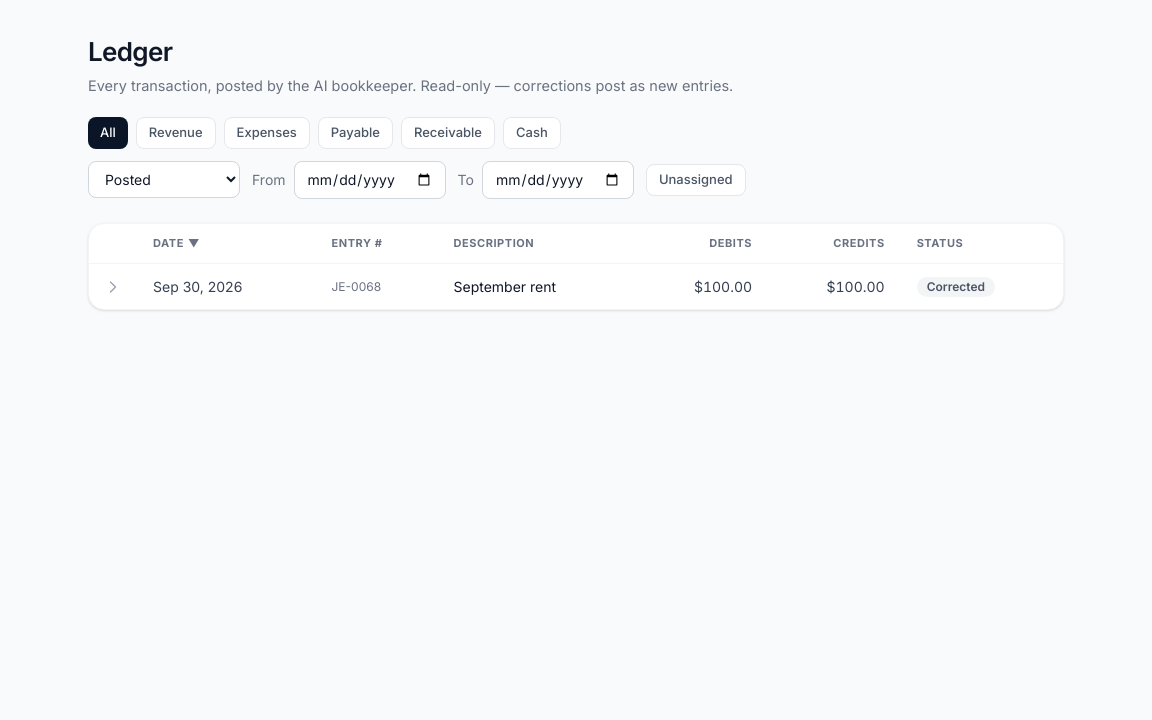
owner ledger — Assign on the live entry only (D-S85-13) › offers no Assign on an unattributed corrected entry; it shows its link and its chain
Click the text "JE-0068" at (376, 287), box [316, 264, 438, 310]
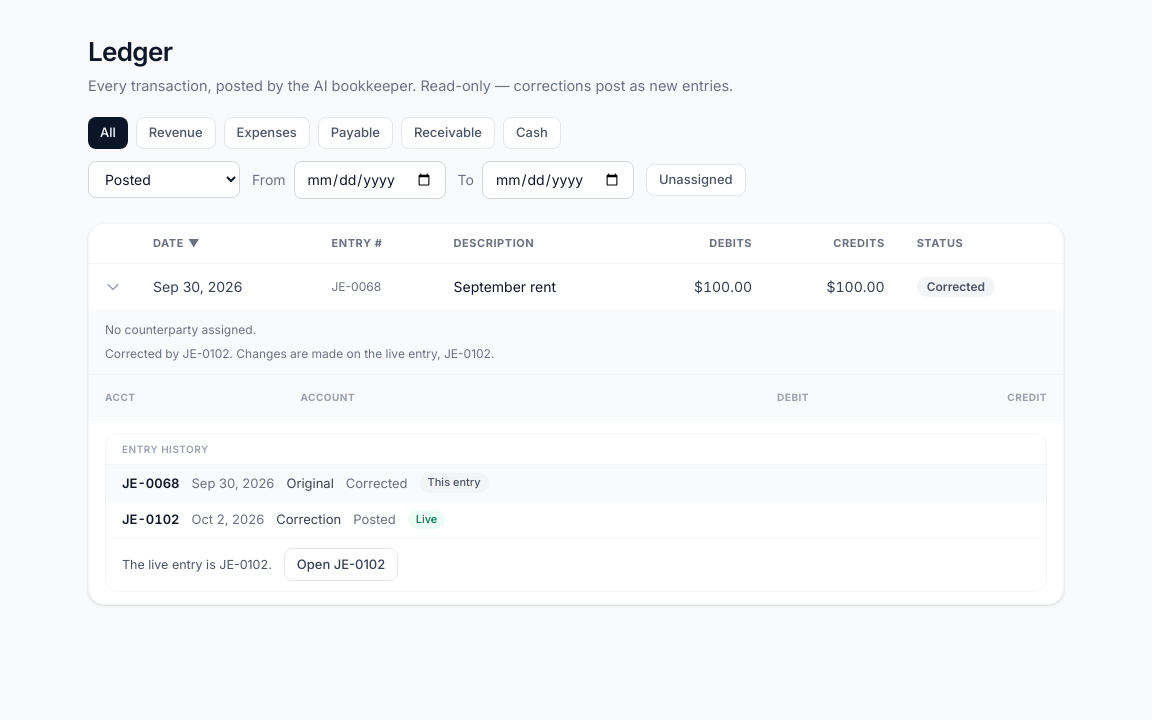
expect the element "Entry history" is shown: met, box [105, 433, 1047, 592]
expect the text "Corrected by JE-0102. Changes are made on the live entry, JE-0102." is shown: met, box [105, 346, 494, 362]
